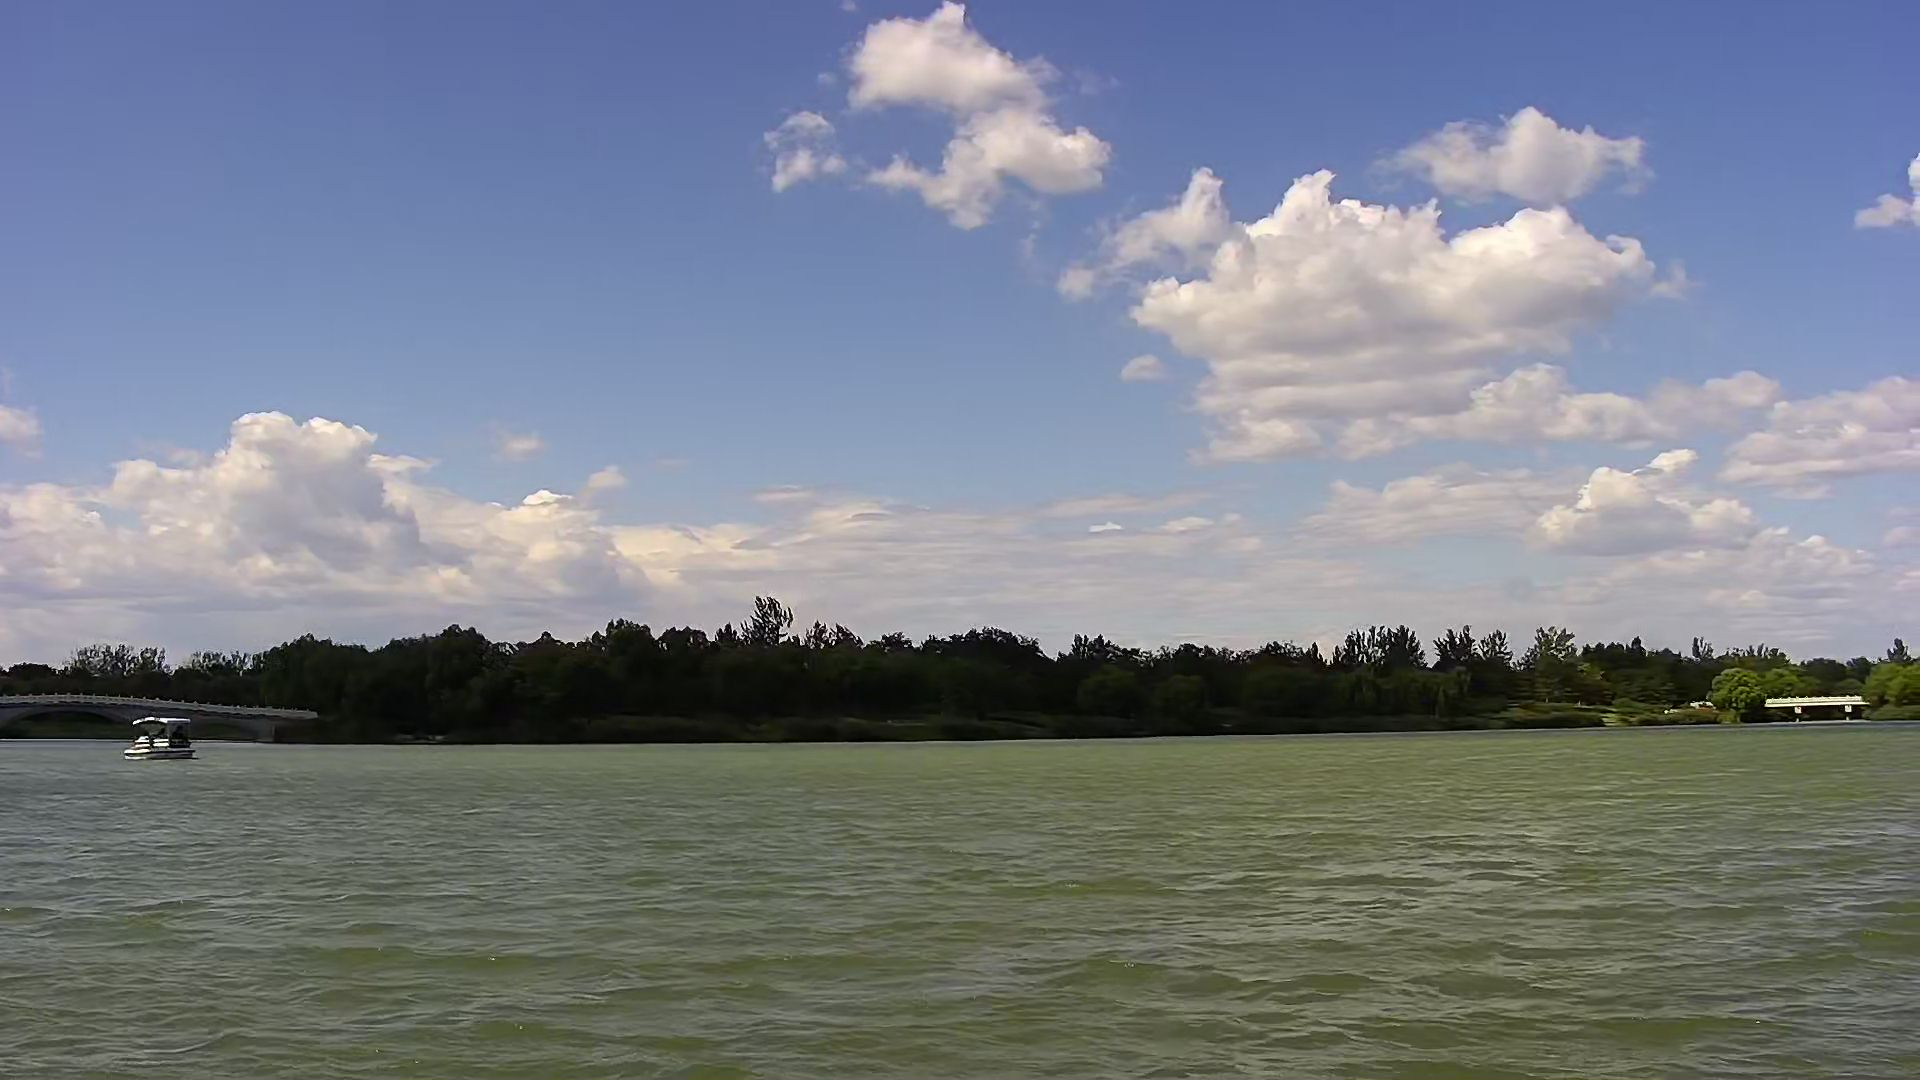boat: (123, 712, 208, 766)
bridge: (1, 684, 320, 745), (1756, 692, 1867, 729)
